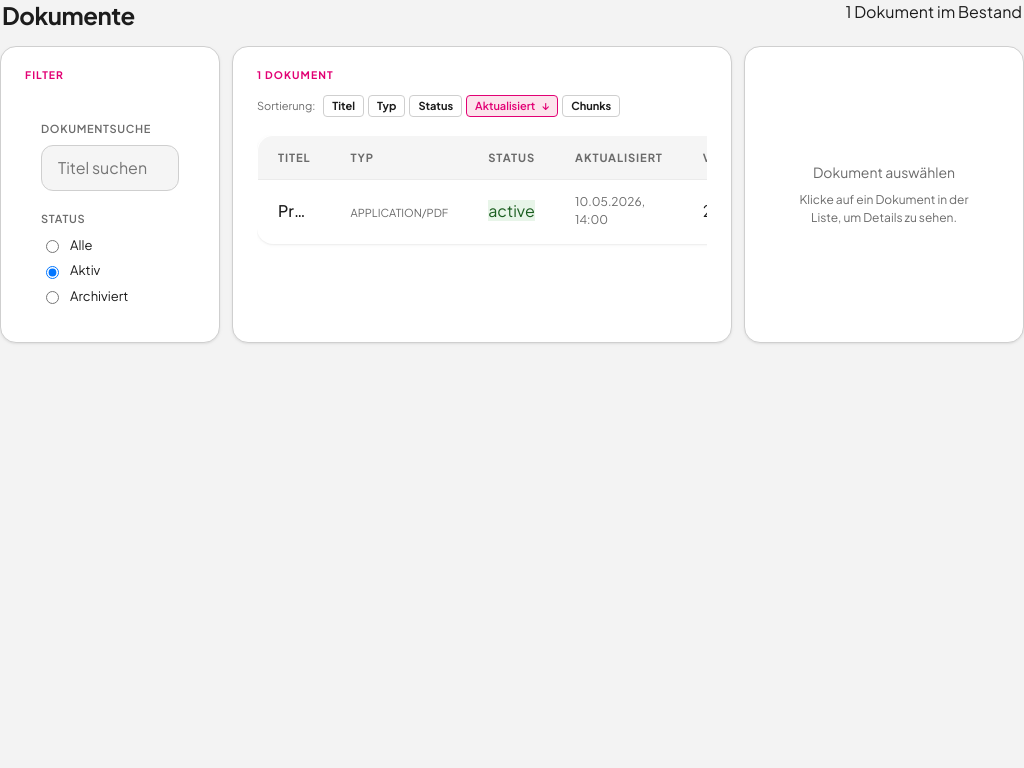
Test: DocumentCenterPage › deselects document on second click of same row
Click the text "Prozesshandbuch Eingang" at (294, 212), box [278,200,310,224]
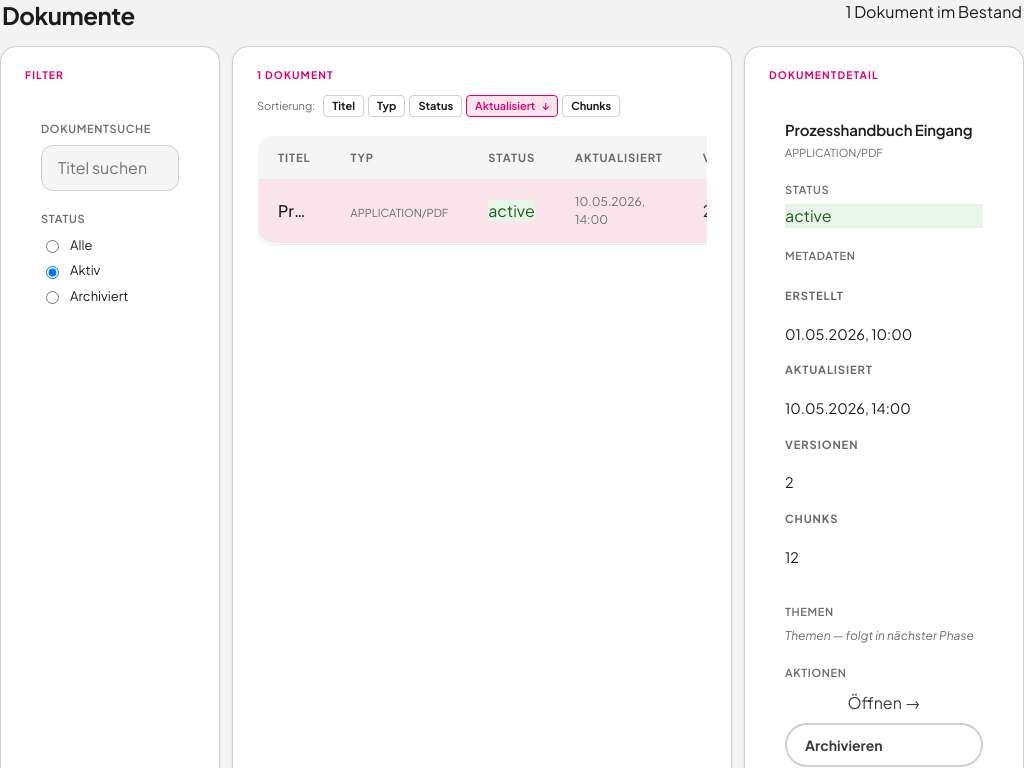
Expected: the heading "Prozesshandbuch Eingang" is shown, [785,121,983,139]
Click the text "Prozesshandbuch Eingang" at (294, 212), box [278,200,310,224]
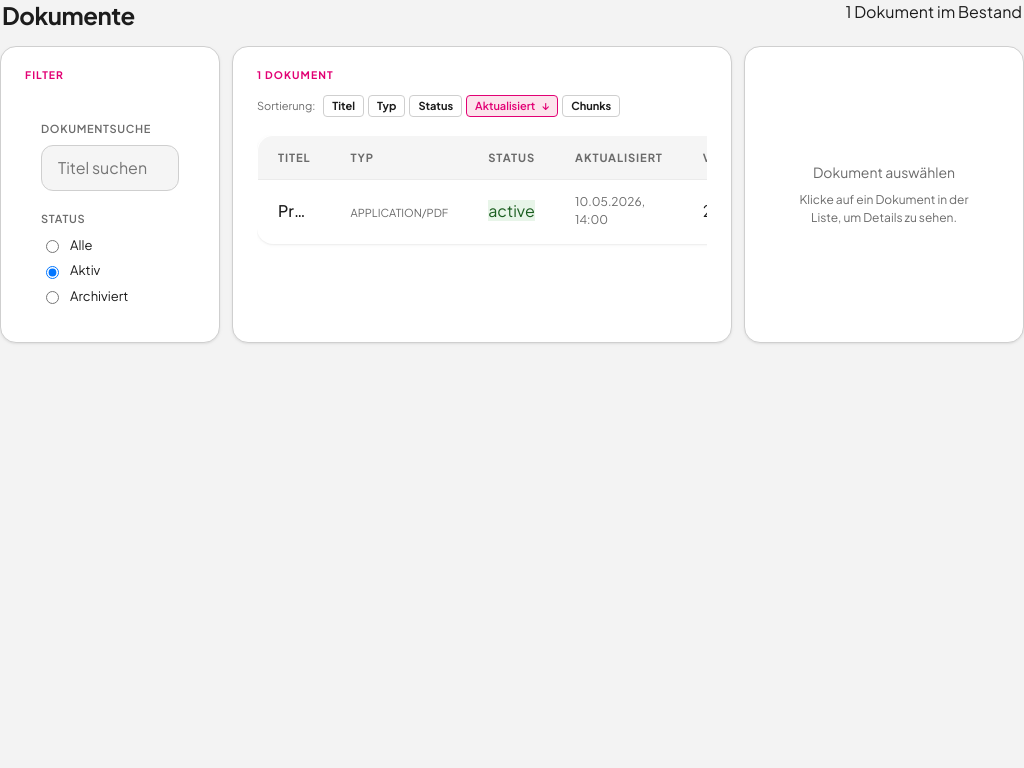
Expected: the text "Dokument auswählen" is shown, [813,162,955,183]
